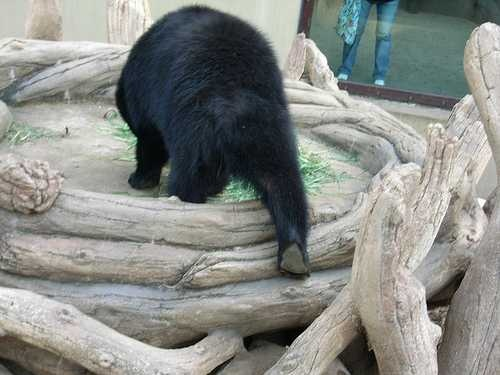bear: (220, 154, 348, 282)
